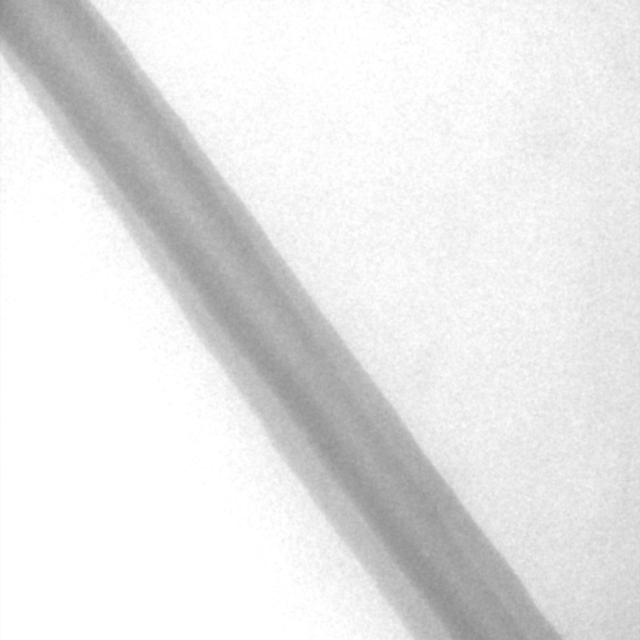air hole: (420, 549, 431, 561)
